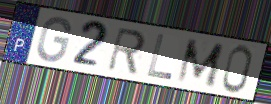0: (221, 43, 254, 95)
2: (68, 19, 112, 74)
G: (35, 15, 73, 64)
L: (145, 33, 174, 82)
M: (174, 38, 226, 89)
R: (105, 26, 148, 76)
